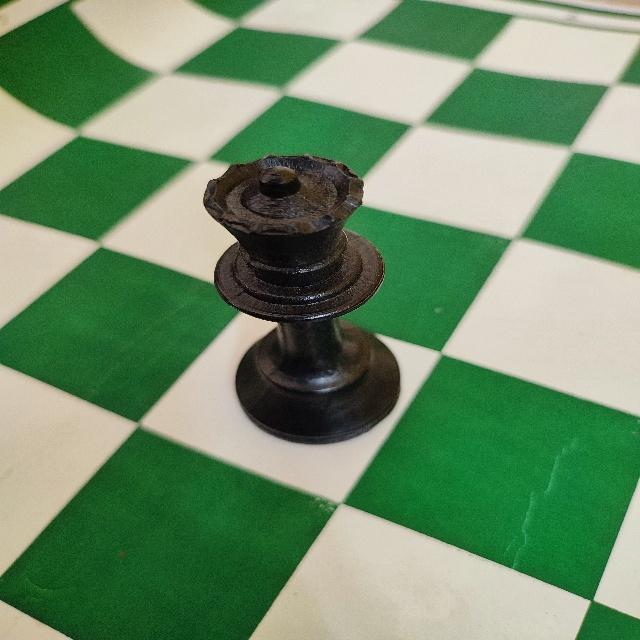Queen: (194, 146, 410, 450)
